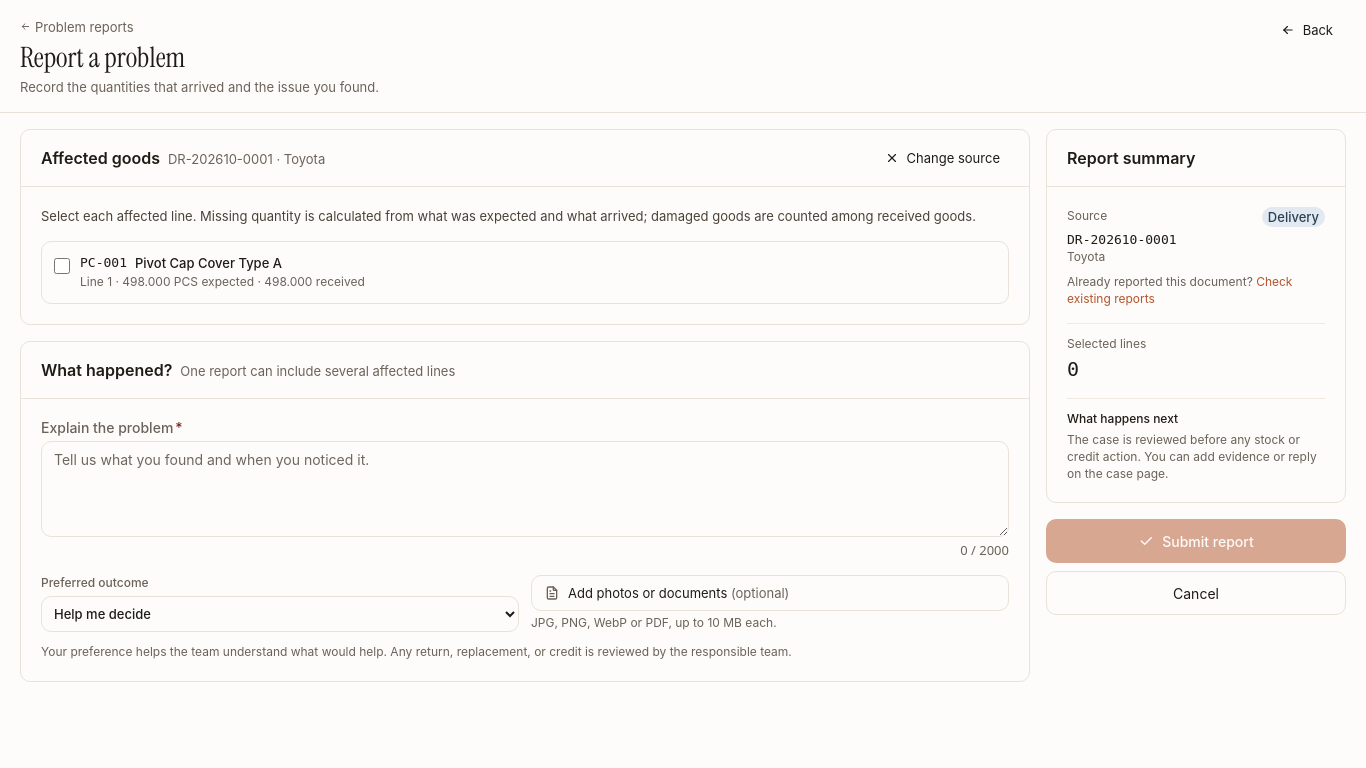
Test: revalidates damaged count when received changes and restores valid submission
Click the checkbox labelled "PC-001" at point(62, 266), box 54,258 -> 70,274
(page scrolled)
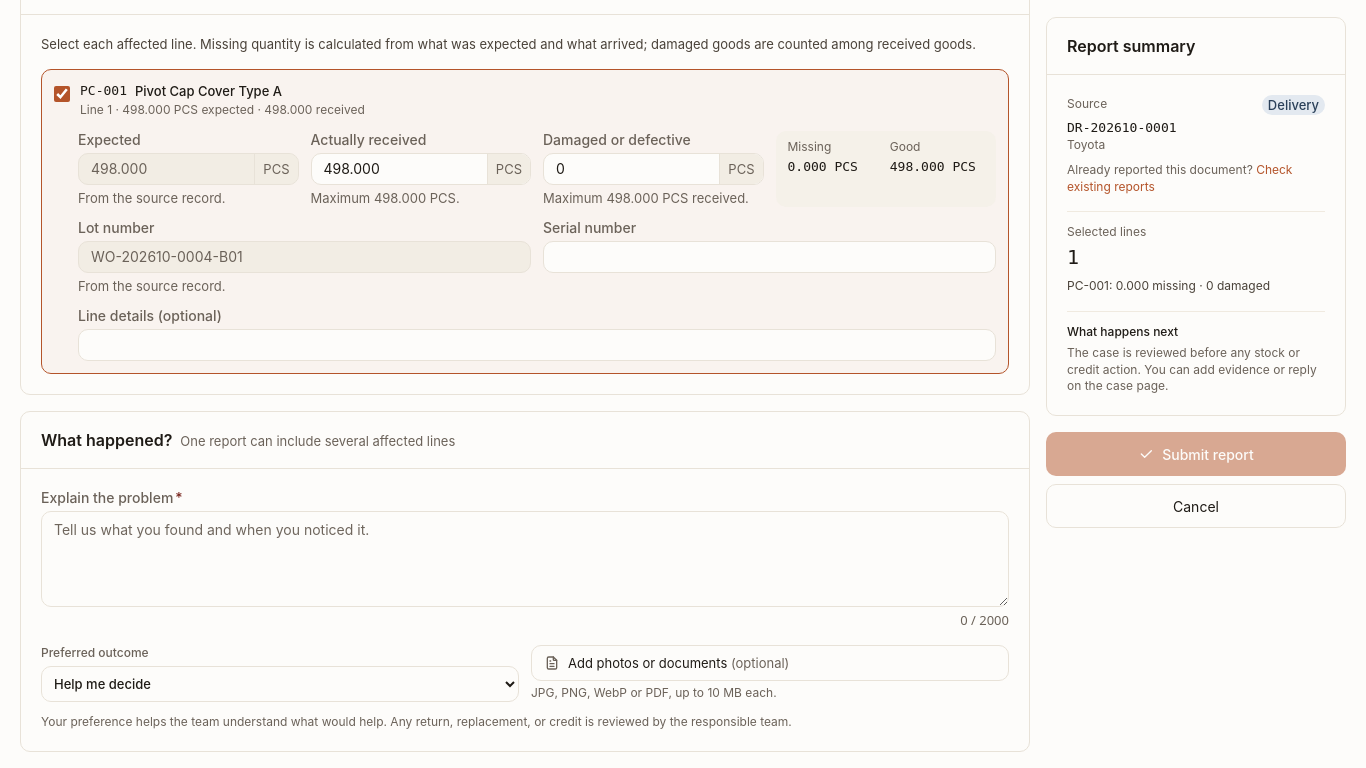
Type "One cover is cracked." into the text box labelled "Explain the problem*" at point(525, 559), box 41,511 -> 1009,607
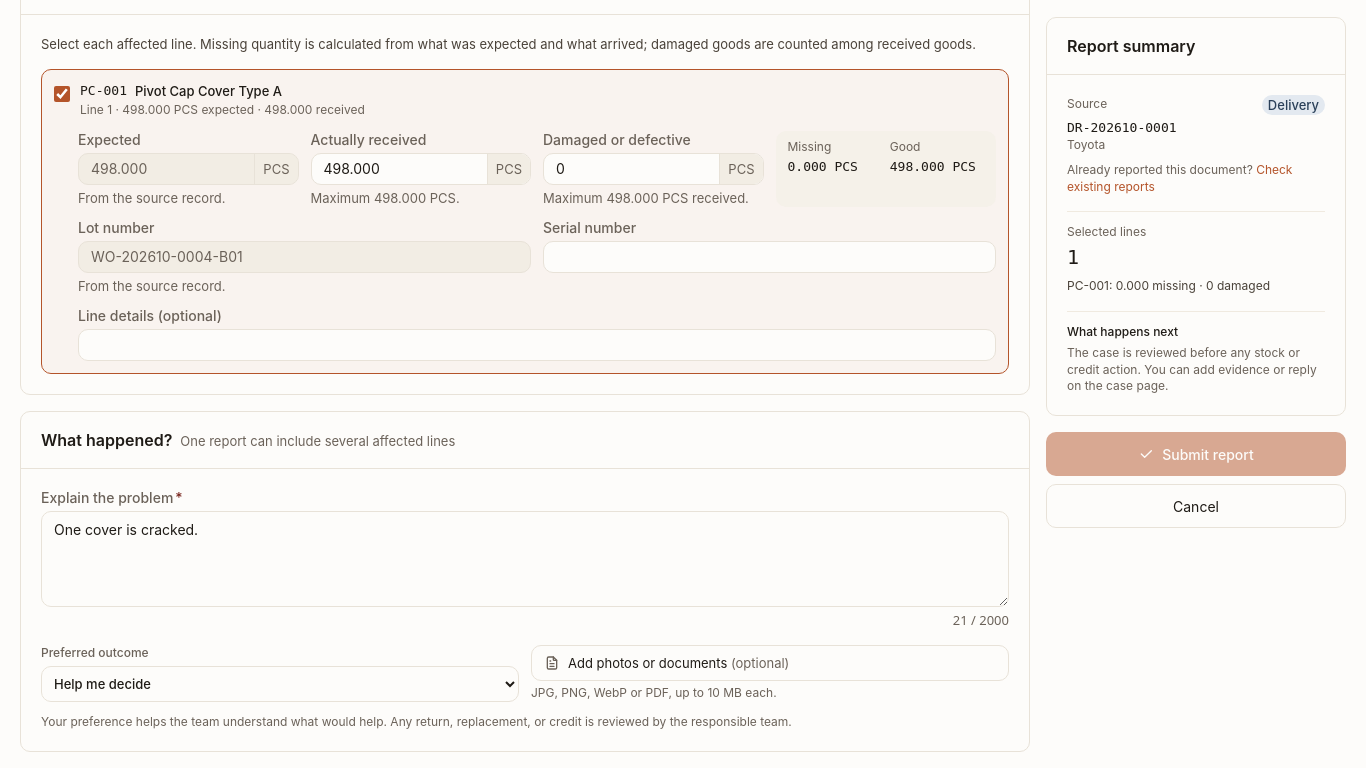
Replace the text in the field labelled "Damaged or defective" with "3" at point(632, 169), box 544,154 -> 719,184
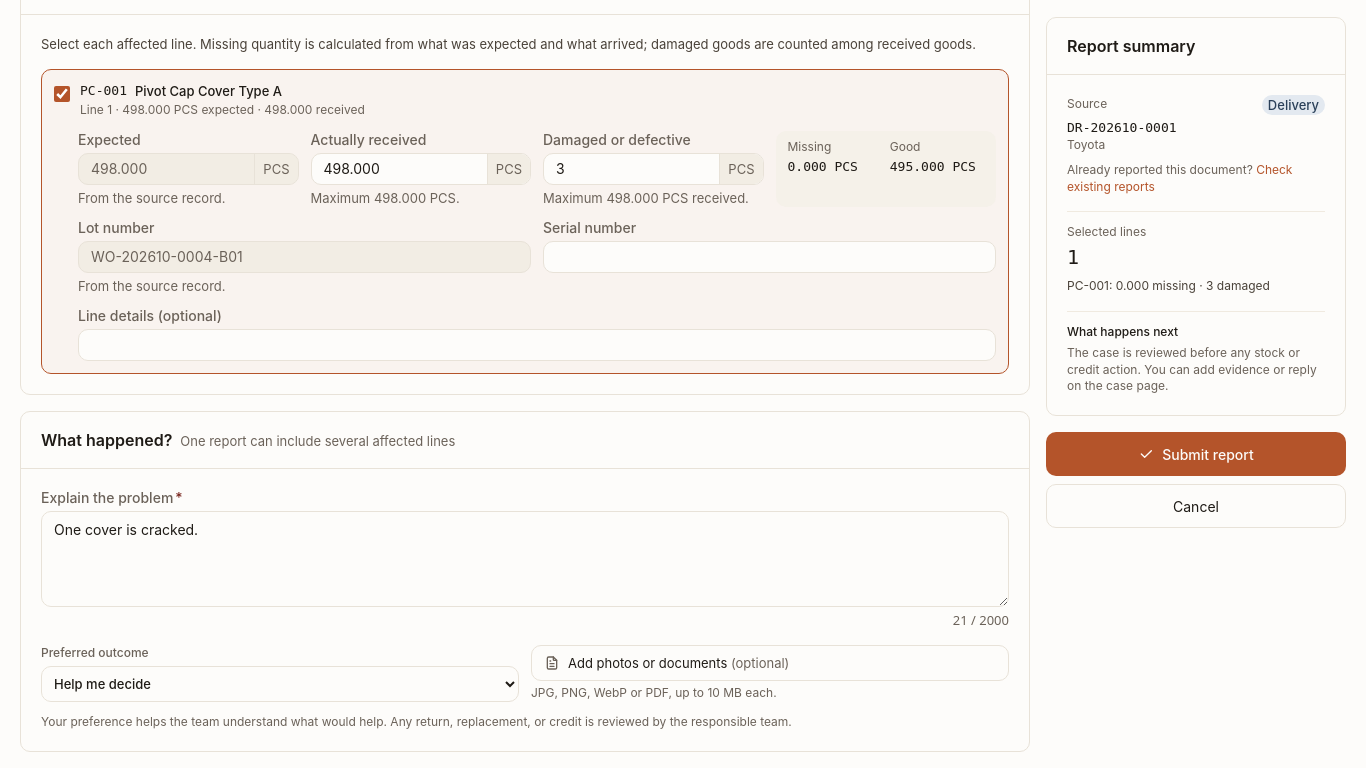
Check: the button "Submit report" is enabled, box 1046,432 -> 1346,476
Replace the text in the field labelled "Actually received" with "2" at point(399, 169), box 312,154 -> 487,184
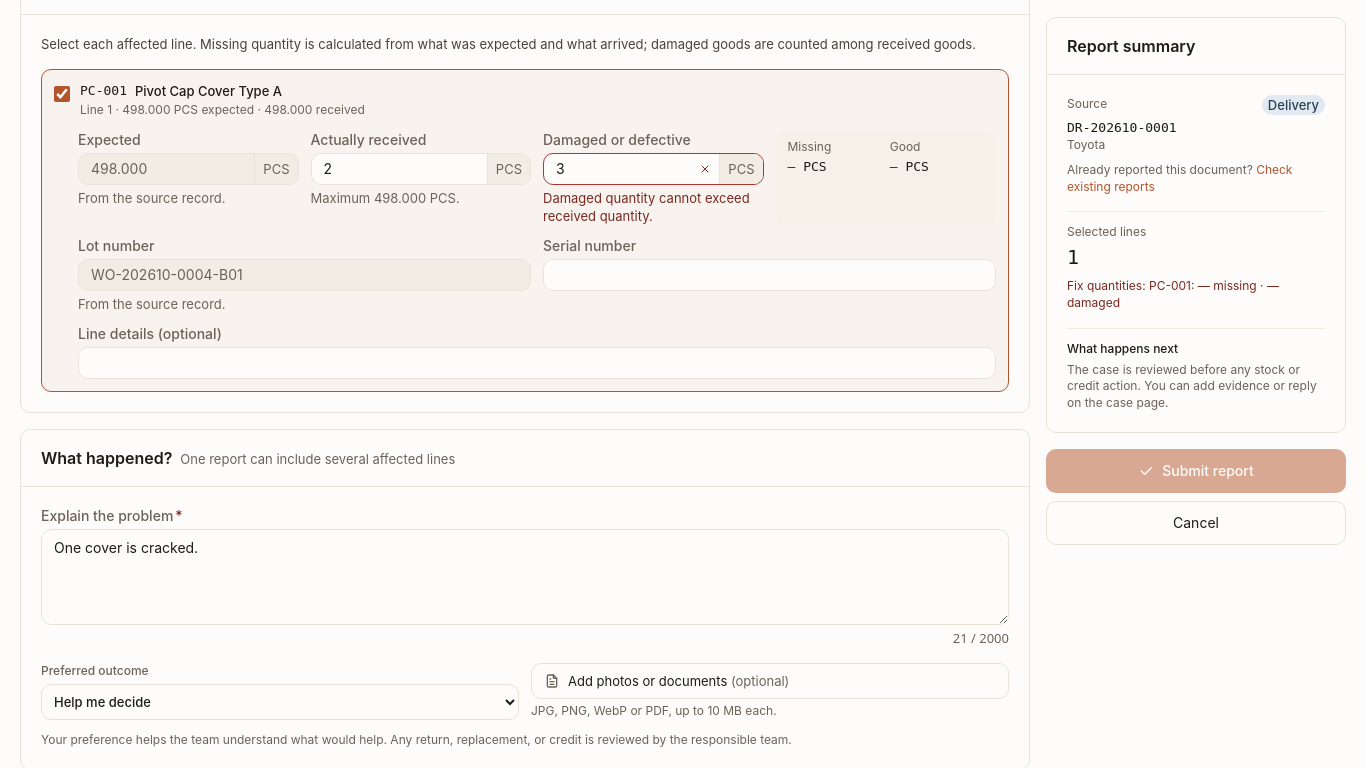
Check: the button "Submit report" is disabled, box 1046,448 -> 1346,492
Replace the text in the field labelled "Damaged or defective" with "1" at point(618, 169), box 544,154 -> 691,184
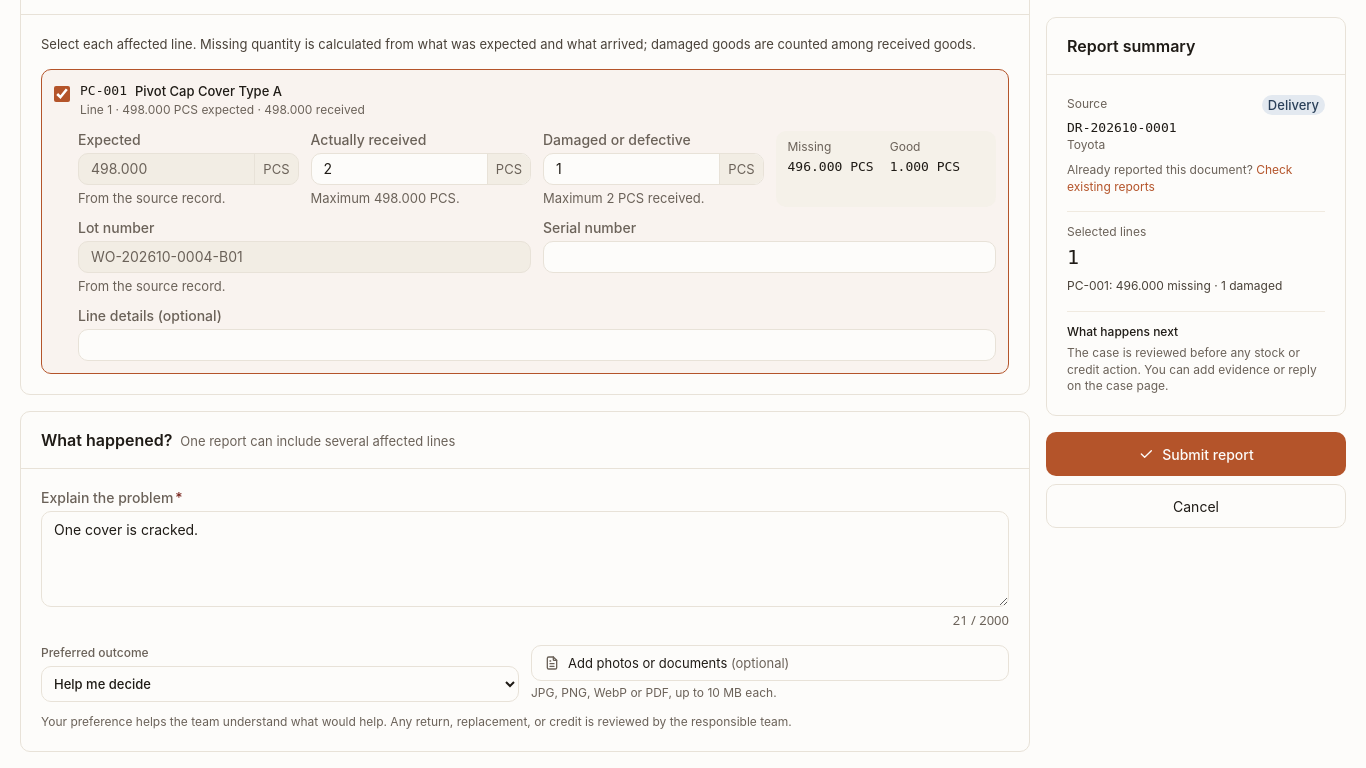
Check: the text "Damaged quantity cannot exceed received quantity." is gone
Check: the button "Submit report" is enabled, box 1046,432 -> 1346,476
